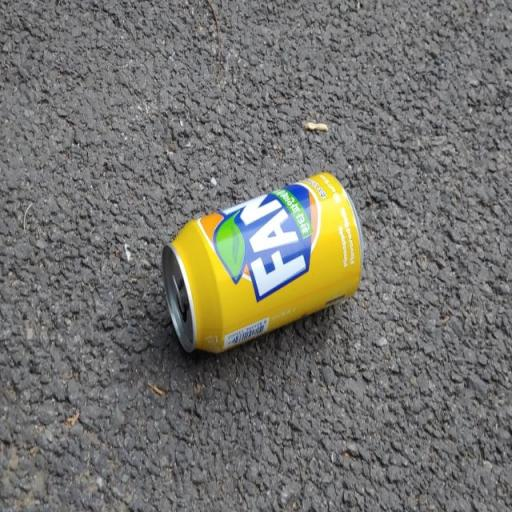metal: (134, 164, 418, 368)
